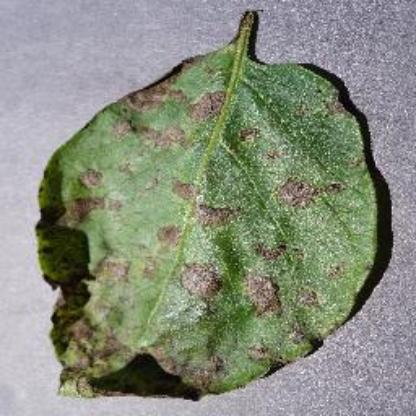Early-Blight: (34, 10, 380, 402)
